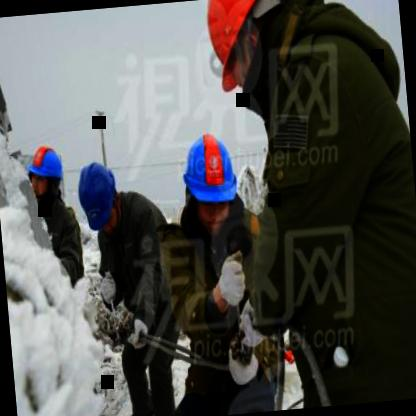helmet: (197, 0, 309, 115), (183, 120, 240, 234), (70, 158, 129, 244), (26, 142, 66, 203)
